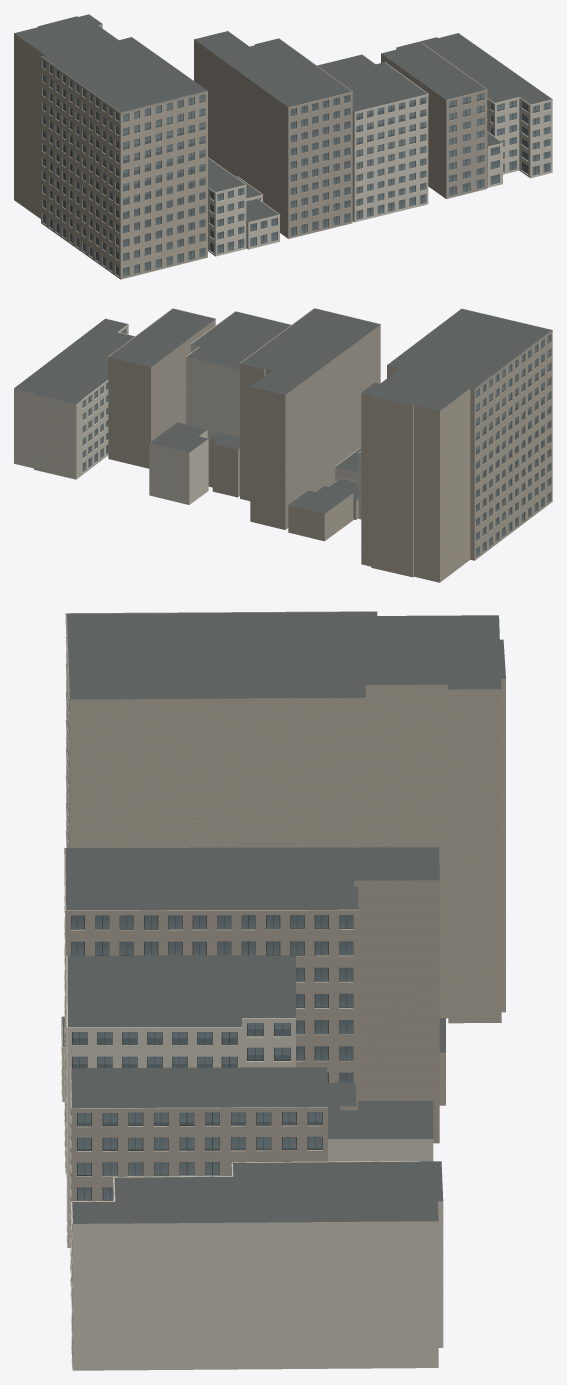
File: near.gltf
The picture shows the model from 3 angles, top to bottom: view 1: azimuth 30°, elevation 25°; view 2: azimuth 150°, elevation 25°; view 3: azimuth 270°, elevation 25°; orthographic projection. The views are drawn at different scales.
Parts seen in each view (by area): view 1: cell-e004-n000_near_stone, cell-e004-n000_near_roof, cell-e004-n000_near_tile-wall, cell-e004-n000_near_glass, cell-e004-n000_near_plaster, cell-e004-n000_near_frame, cell-e004-n000_near_granite; view 2: cell-e004-n000_near_stone, cell-e004-n000_near_roof, cell-e004-n000_near_tile-wall, cell-e004-n000_near_plaster, cell-e004-n000_near_glass, cell-e004-n000_near_granite, cell-e004-n000_near_frame; view 3: cell-e004-n000_near_roof, cell-e004-n000_near_stone, cell-e004-n000_near_plaster, cell-e004-n000_near_tile-wall, cell-e004-n000_near_glass, cell-e004-n000_near_frame, cell-e004-n000_near_granite.
Part boxes in pixels (<box>): cell-e004-n000_near_stone: <box>14,24,207,279</box>; cell-e004-n000_near_roof: <box>14,14,551,222</box>; cell-e004-n000_near_tile-wall: <box>194,38,487,238</box>; cell-e004-n000_near_glass: <box>43,60,550,276</box>; cell-e004-n000_near_plaster: <box>208,48,552,256</box>; cell-e004-n000_near_frame: <box>43,66,549,276</box>; cell-e004-n000_near_granite: <box>40,56,207,277</box>; cell-e004-n000_near_stone: <box>288,331,552,582</box>; cell-e004-n000_near_roof: <box>14,308,551,513</box>; cell-e004-n000_near_tile-wall: <box>107,308,380,529</box>; cell-e004-n000_near_plaster: <box>14,311,361,519</box>; cell-e004-n000_near_glass: <box>82,329,550,556</box>; cell-e004-n000_near_granite: <box>328,308,552,557</box>; cell-e004-n000_near_frame: <box>83,341,549,556</box>; cell-e004-n000_near_roof: <box>62,612,505,1223</box>; cell-e004-n000_near_stone: <box>66,644,505,1105</box>; cell-e004-n000_near_plaster: <box>61,955,443,1370</box>; cell-e004-n000_near_tile-wall: <box>64,848,439,1299</box>; cell-e004-n000_near_glass: <box>71,915,352,1200</box>; cell-e004-n000_near_frame: <box>71,915,353,1200</box>; cell-e004-n000_near_granite: <box>65,611,377,847</box>.
Bounding box in the file's own units: 111 × 40.79 × 49.28.
7 materials, 5 textured.
